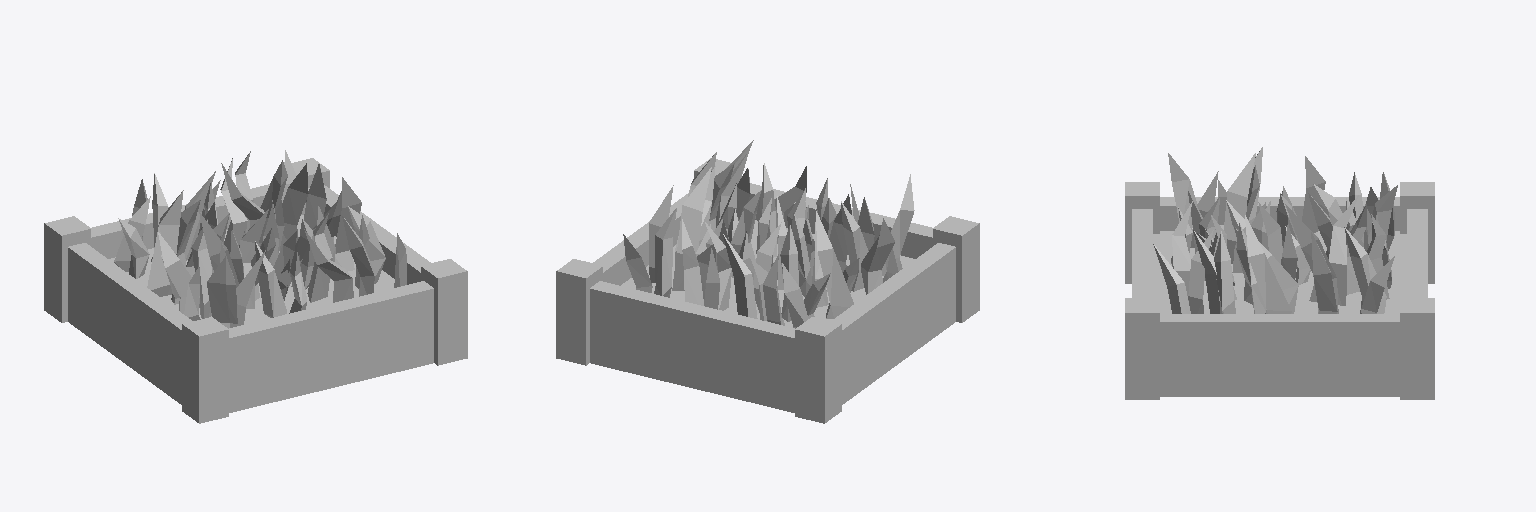
File: grass.obj
The picture shows the model from 3 angles: view 1: azimuth 30°, elevation 25°; view 2: azimuth 150°, elevation 25°; view 3: azimuth 270°, elevation 25°; orthographic projection.
Parts seen in each view (by area): view 1: group[number redacted], group[number redacted], group[number redacted], group[number redacted], group[number redacted], group[number redacted], group[number redacted], group[number redacted], group[number redacted], group[number redacted], group[number redacted], group[number redacted] (+16 smaller); view 2: group[number redacted], group[number redacted], group[number redacted], group[number redacted], group[number redacted], group[number redacted], group[number redacted], group[number redacted], group[number redacted], group[number redacted], group[number redacted], group[number redacted] (+12 smaller); view 3: group[number redacted], group[number redacted], group[number redacted], group[number redacted], group[number redacted], group[number redacted], group[number redacted], group[number redacted], group[number redacted], group[number redacted], group[number redacted], group[number redacted] (+11 smaller).
Part boxes in pixels (left/top/right/bottom): group[number redacted]: left=44, top=158, right=467, bottom=423; group[number redacted]: left=147, top=190, right=183, bottom=296; group[number redacted]: left=280, top=163, right=308, bottom=250; group[number redacted]: left=255, top=241, right=286, bottom=317; group[number redacted]: left=335, top=177, right=361, bottom=271; group[number redacted]: left=304, top=229, right=353, bottom=302; group[number redacted]: left=342, top=216, right=374, bottom=296; group[number redacted]: left=191, top=219, right=211, bottom=318; group[number redacted]: left=207, top=256, right=229, bottom=328; group[number redacted]: left=307, top=212, right=332, bottom=302; group[number redacted]: left=158, top=232, right=199, bottom=313; group[number redacted]: left=118, top=218, right=149, bottom=278; group[number redacted]: left=556, top=158, right=979, bottom=423; group[number redacted]: left=815, top=208, right=853, bottom=318; group[number redacted]: left=672, top=167, right=711, bottom=290; group[number redacted]: left=654, top=208, right=676, bottom=297; group[number redacted]: left=861, top=218, right=894, bottom=294; group[number redacted]: left=723, top=234, right=757, bottom=318; group[number redacted]: left=682, top=219, right=703, bottom=305; group[number redacted]: left=841, top=201, right=868, bottom=291; group[number redacted]: left=881, top=174, right=914, bottom=275; group[number redacted]: left=705, top=222, right=731, bottom=310; group[number redacted]: left=782, top=263, right=807, bottom=328; group[number redacted]: left=763, top=254, right=784, bottom=325; group[number redacted]: left=1125, top=182, right=1434, bottom=399; group[number redacted]: left=1245, top=215, right=1291, bottom=313; group[number redacted]: left=1329, top=195, right=1358, bottom=305; group[number redacted]: left=1224, top=153, right=1255, bottom=263; group[number redacted]: left=1311, top=232, right=1337, bottom=313; group[number redacted]: left=1214, top=231, right=1235, bottom=313; group[number redacted]: left=1344, top=227, right=1386, bottom=313; group[number redacted]: left=1153, top=244, right=1190, bottom=313; group[number redacted]: left=1172, top=201, right=1192, bottom=300; group[number redacted]: left=1168, top=153, right=1196, bottom=247; group[number redacted]: left=1188, top=230, right=1213, bottom=313; group[number redacted]: left=1285, top=204, right=1338, bottom=313.
Bounding box in the file's own units: 0.45 × 0.2519 × 0.45.